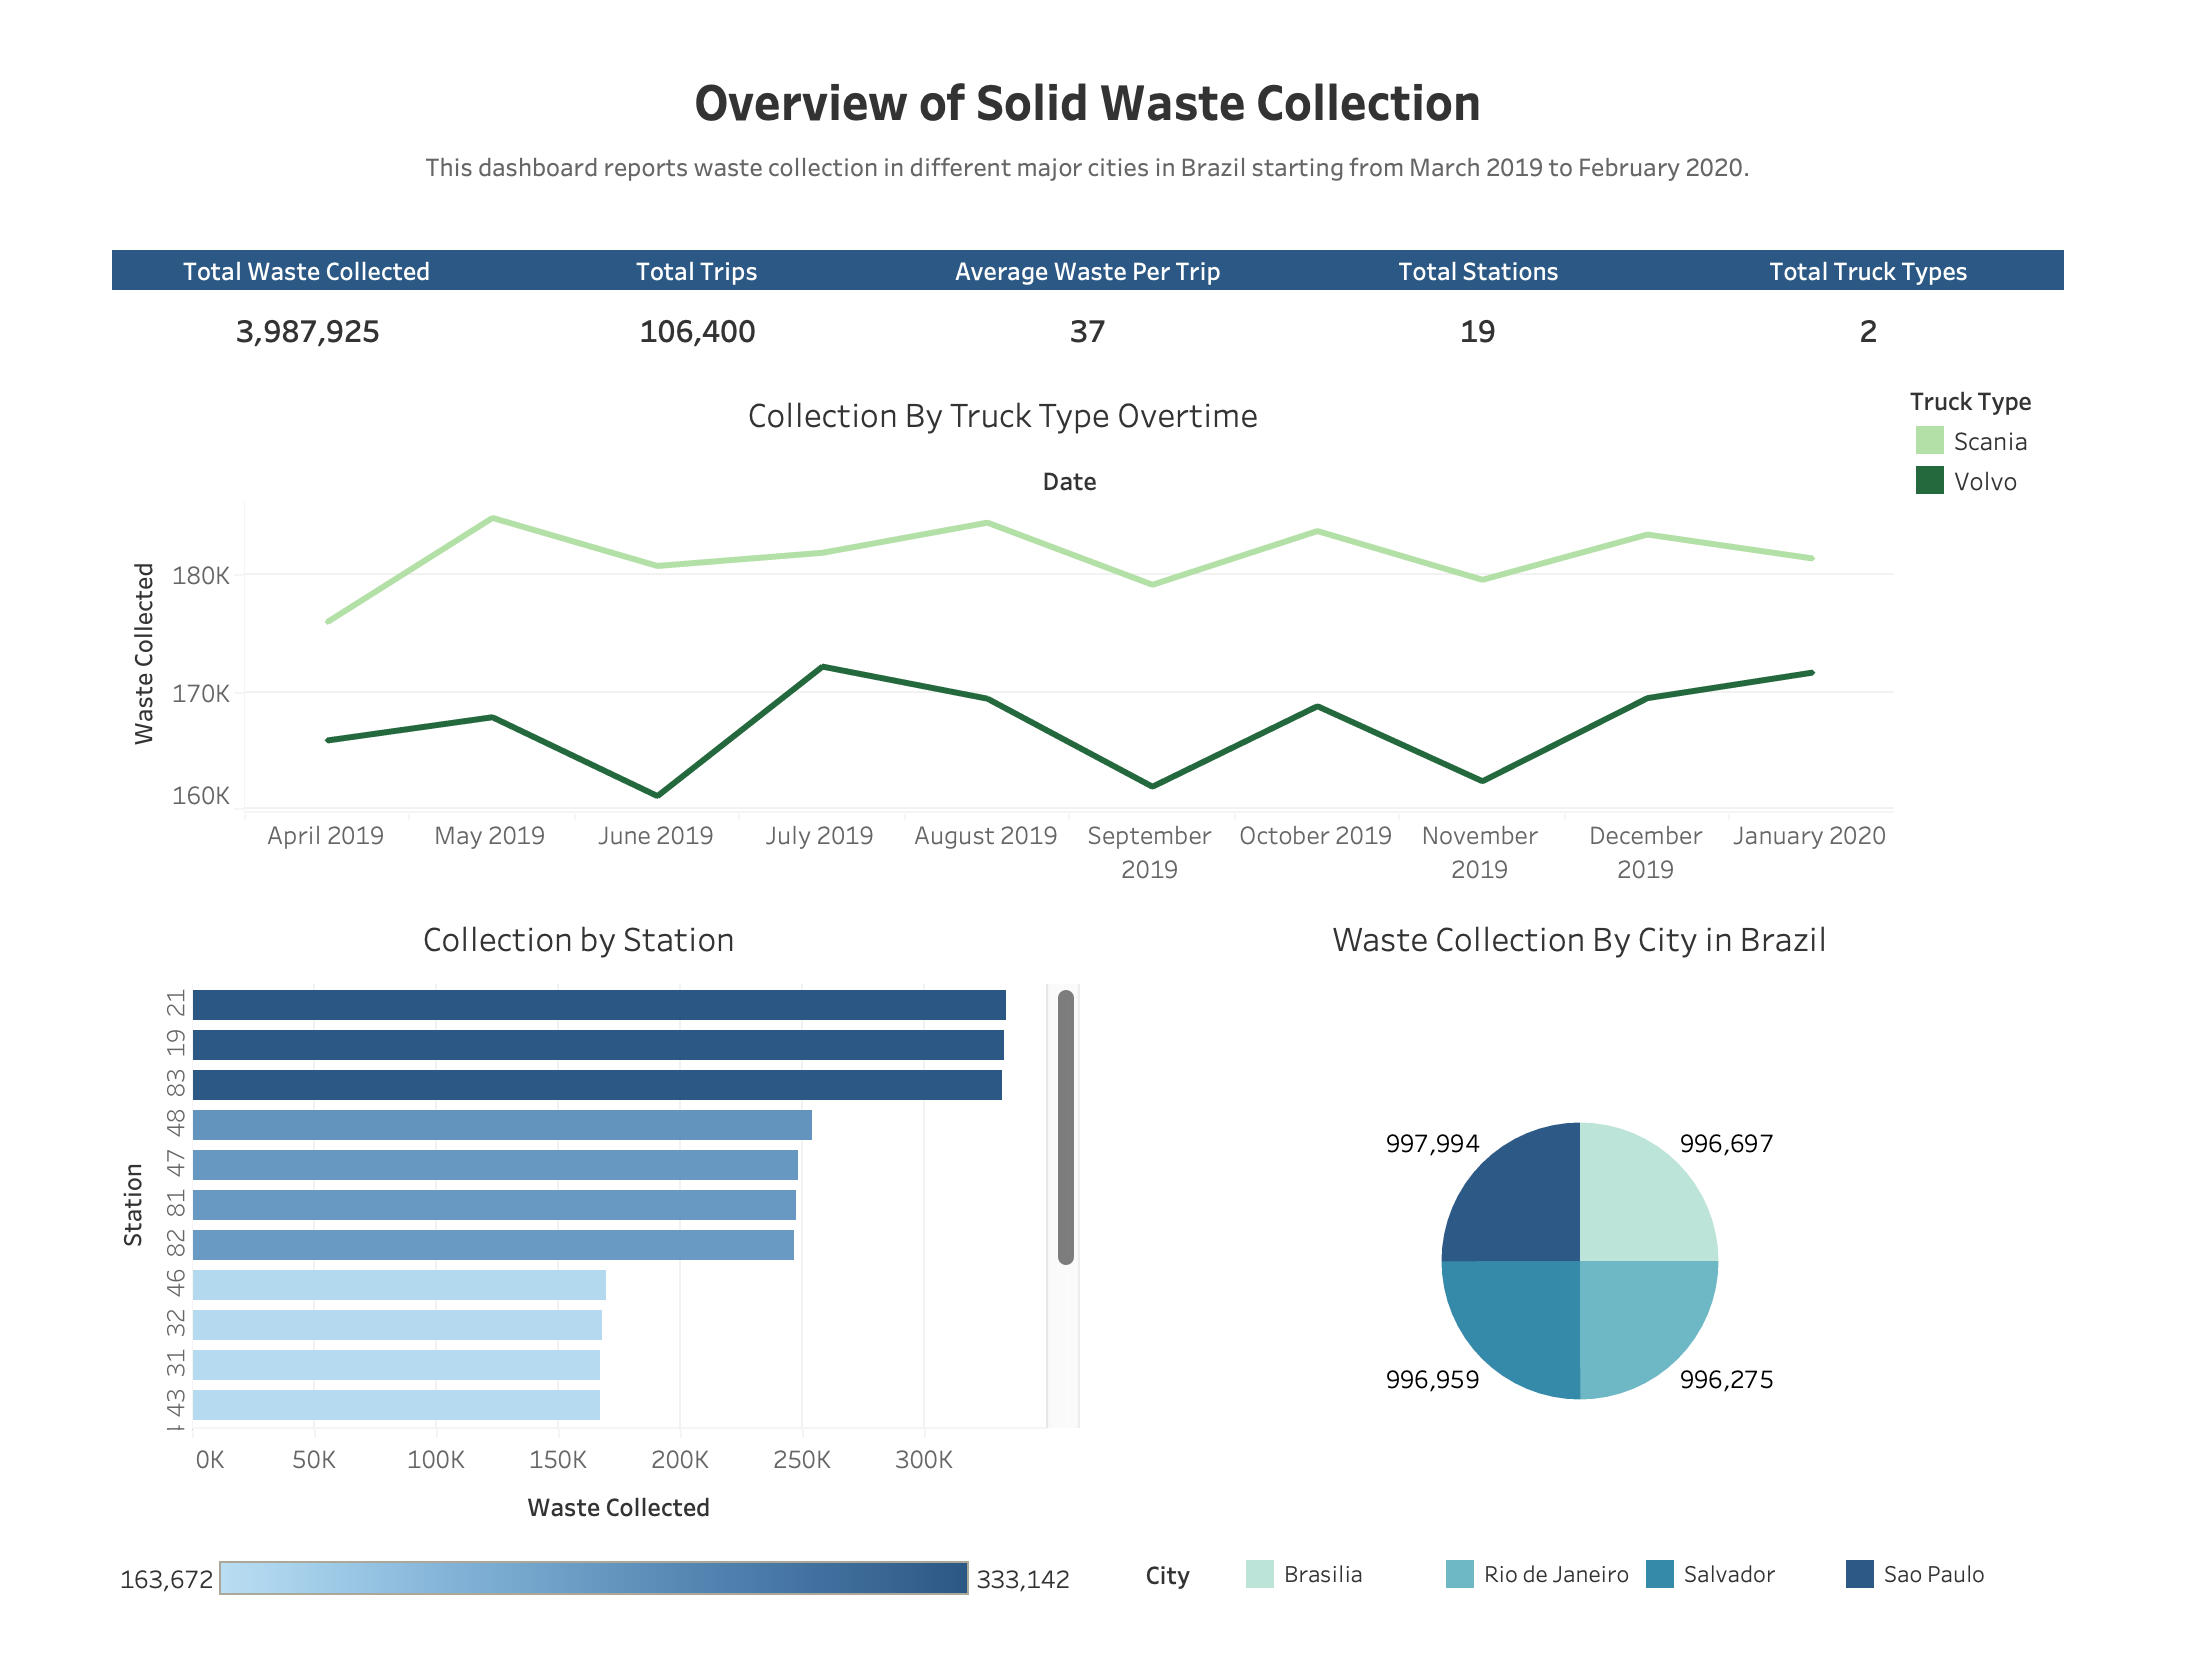

The page's visual inventory and layout, read from the dashboard file:
{"tool":"tableau","page":{"name":"Overview of Solid Waste Collection","canvas":[1000,800],"ordinal":0},"visuals":[{"type":"title","box":[8,8,984,41]},{"type":"text","box":[8,49,984,34.6]},{"type":"worksheet","title":"Summary","mark":"Automatic","box":[8,83.6,984,82.3]},{"type":"worksheet","title":"Collection By Truck Type Overtime","mark":"Automatic","rows":["Wastecollected"],"cols":["date"],"box":[8,165.9,899,262.1]},{"type":"legend","title":"Collection By Truck Type Overtime","param":"[federated.1mhyrpm1mzo1qb17o5aal1q3nmqy].[none:TruckType:nk]","box":[907,165.9,85,262.1]},{"type":"worksheet","title":"Collection by Station","mark":"Automatic","rows":["Stationid"],"cols":["Wastecollected"],"box":[8,428,492,323]},{"type":"worksheet","title":"Collection by City","mark":"Pie","box":[500,428,492,323]},{"type":"legend","title":"Collection by Station","param":"[federated.1mhyrpm1mzo1qb17o5aal1q3nmqy].[sum:Wastecollected:qk]","box":[8,751,492,41]},{"type":"legend","title":"Collection by City","param":"[federated.1mhyrpm1mzo1qb17o5aal1q3nmqy].[none:City:nk]","box":[500,751,492,41]}]}

Visuals, with their boxes on the page's 1000x800 design canvas (x1, y1, x2, y2). These are canvas units, not pixel positions in the 2202x1668 screenshot, which may show the page scaled, cropped or inside an application window:
title: <box>8,8,992,49</box>
text: <box>8,49,992,84</box>
"Summary" worksheet: <box>8,84,992,166</box>
"Collection By Truck Type Overtime" worksheet: <box>8,166,907,428</box>
"Collection By Truck Type Overtime" legend: <box>907,166,992,428</box>
"Collection by Station" worksheet: <box>8,428,500,751</box>
"Collection by City" worksheet (Pie marks): <box>500,428,992,751</box>
"Collection by Station" legend: <box>8,751,500,792</box>
"Collection by City" legend: <box>500,751,992,792</box>
